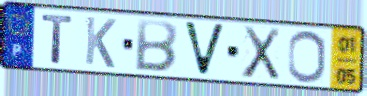B: (132, 17, 180, 74)
K: (83, 14, 118, 70)
O: (287, 29, 328, 85)
T: (40, 13, 76, 66)
V: (181, 19, 228, 79)
X: (240, 25, 283, 83)
